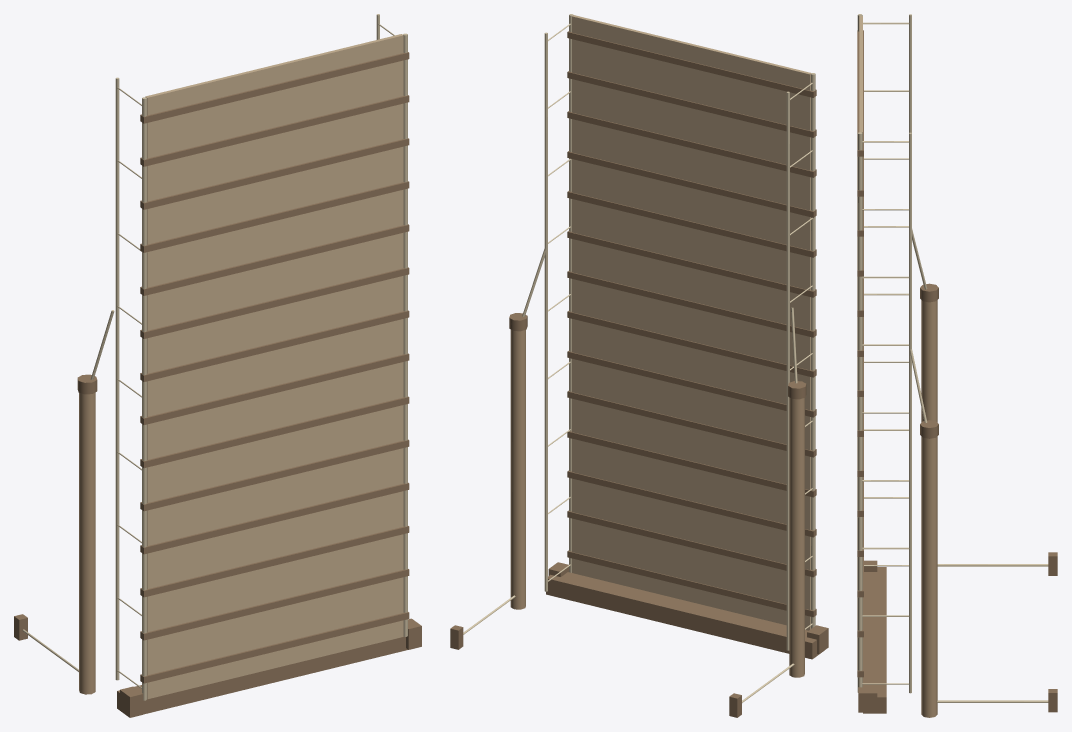
File: rope_lowered_road.glb
3 views of the same model, side by side, from view 1: azimuth 30°, elevation 25°; view 2: azimuth 150°, elevation 25°; view 3: azimuth 270°, elevation 25° (orthographic). The views are drawn at different scales.
Visible parts, largest first — view 1: span, bridge; view 2: span, bridge; view 3: bridge, span.
Part boxes in pixels (bbox=[...]): span: bbox=[115, 14, 409, 700]; bridge: bbox=[14, 374, 421, 717]; span: bbox=[544, 14, 816, 650]; bridge: bbox=[450, 313, 828, 717]; bridge: bbox=[858, 283, 1057, 717]; span: bbox=[857, 14, 911, 693].
Bounding box in the file's own units: 7.2 × 13.35 × 4.22.
